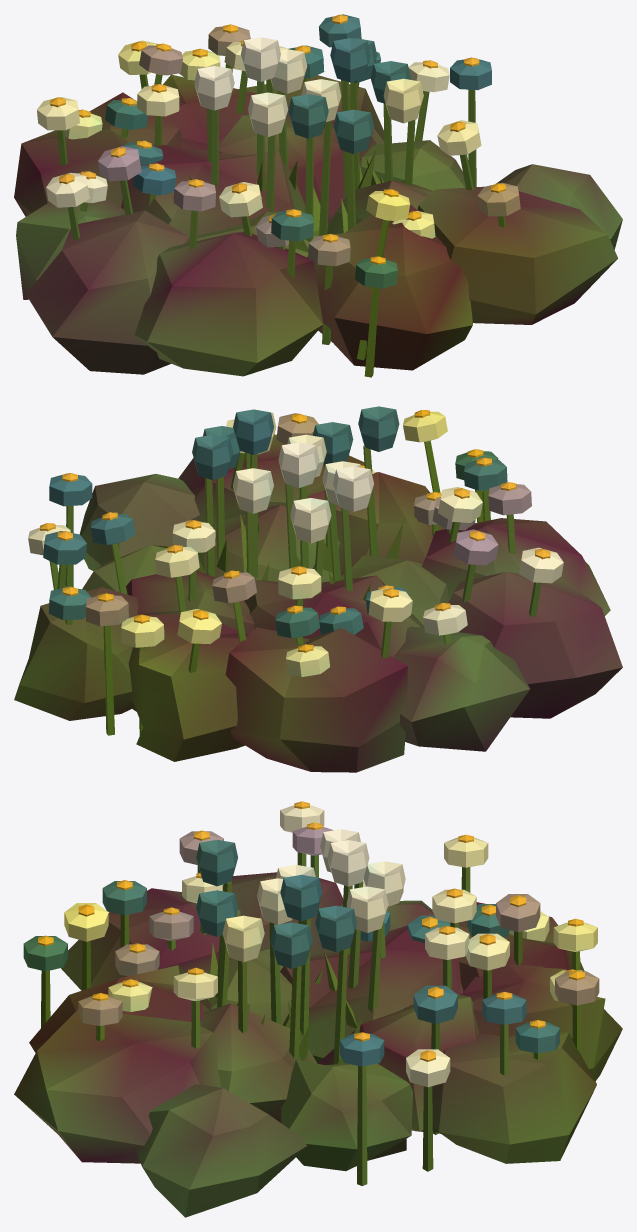
Rendered from FlowerBed_Grass_Round_02.glb.
3 views of the same model, one above another, from view 1: azimuth 30°, elevation 25°; view 2: azimuth 150°, elevation 25°; view 3: azimuth 270°, elevation 25° (orthographic). The views are drawn at different scales.
Visible parts, largest first — view 1: FlowerBed_Grass_Round_02; view 2: FlowerBed_Grass_Round_02; view 3: FlowerBed_Grass_Round_02.
Part boxes in pixels (bbox=[...]): FlowerBed_Grass_Round_02: bbox=[14, 14, 622, 377]; FlowerBed_Grass_Round_02: bbox=[14, 406, 622, 772]; FlowerBed_Grass_Round_02: bbox=[14, 801, 622, 1217].
Size of the model in its own units: 1.53 by 0.6339 by 1.41.
